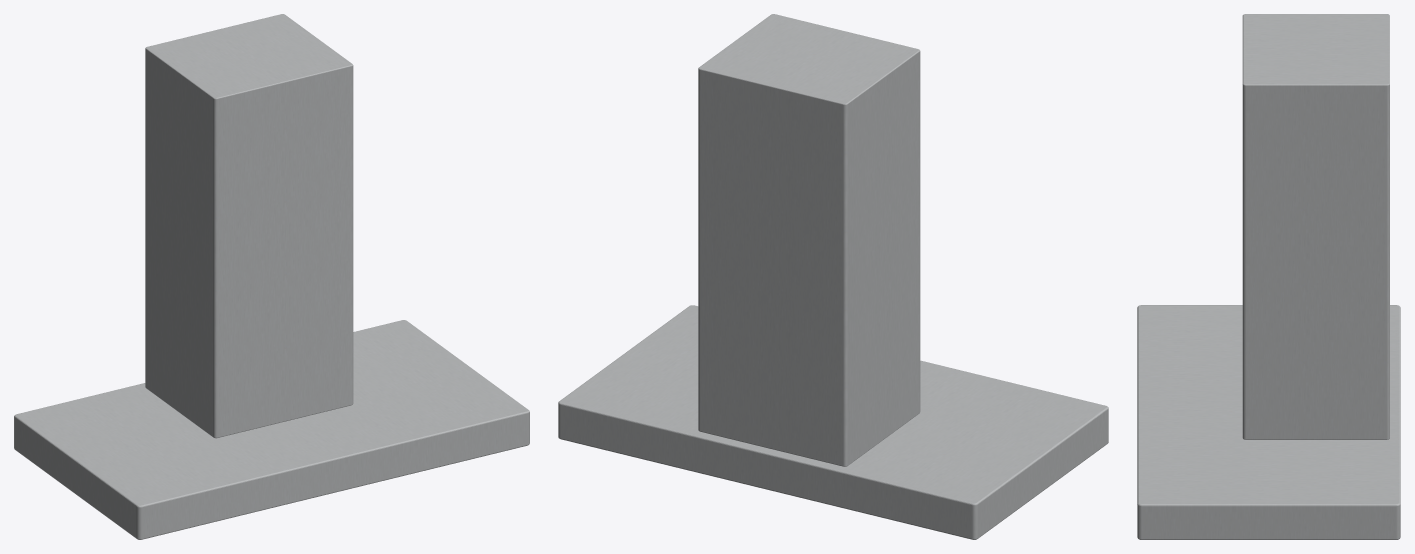
Rendered from kowhai-hero-kit-03.glb.
3 views of the same model, side by side, from view 1: azimuth 30°, elevation 25°; view 2: azimuth 150°, elevation 25°; view 3: azimuth 270°, elevation 25° (orthographic). The views are drawn at different scales.
Visible parts, largest first — view 1: Rangehood_ChimneyFlue, Rangehood_MainCanopy; view 2: Rangehood_ChimneyFlue, Rangehood_MainCanopy; view 3: Rangehood_ChimneyFlue, Rangehood_MainCanopy.
Boxes of the visible parts, left/top/right/bottom form: Rangehood_ChimneyFlue: left=145, top=14, right=353, bottom=438; Rangehood_MainCanopy: left=14, top=320, right=529, bottom=539; Rangehood_ChimneyFlue: left=698, top=14, right=920, bottom=466; Rangehood_MainCanopy: left=558, top=305, right=1108, bottom=539; Rangehood_ChimneyFlue: left=1242, top=14, right=1389, bottom=439; Rangehood_MainCanopy: left=1137, top=305, right=1400, bottom=539.
Bounding box in the file's own units: 0.9 × 0.822 × 0.5001.
Materials: 2 (1 with a texture image).
